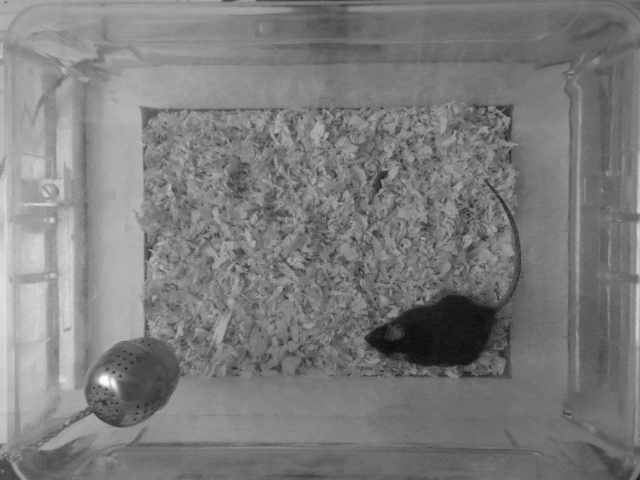mice: (362, 170, 525, 370)
